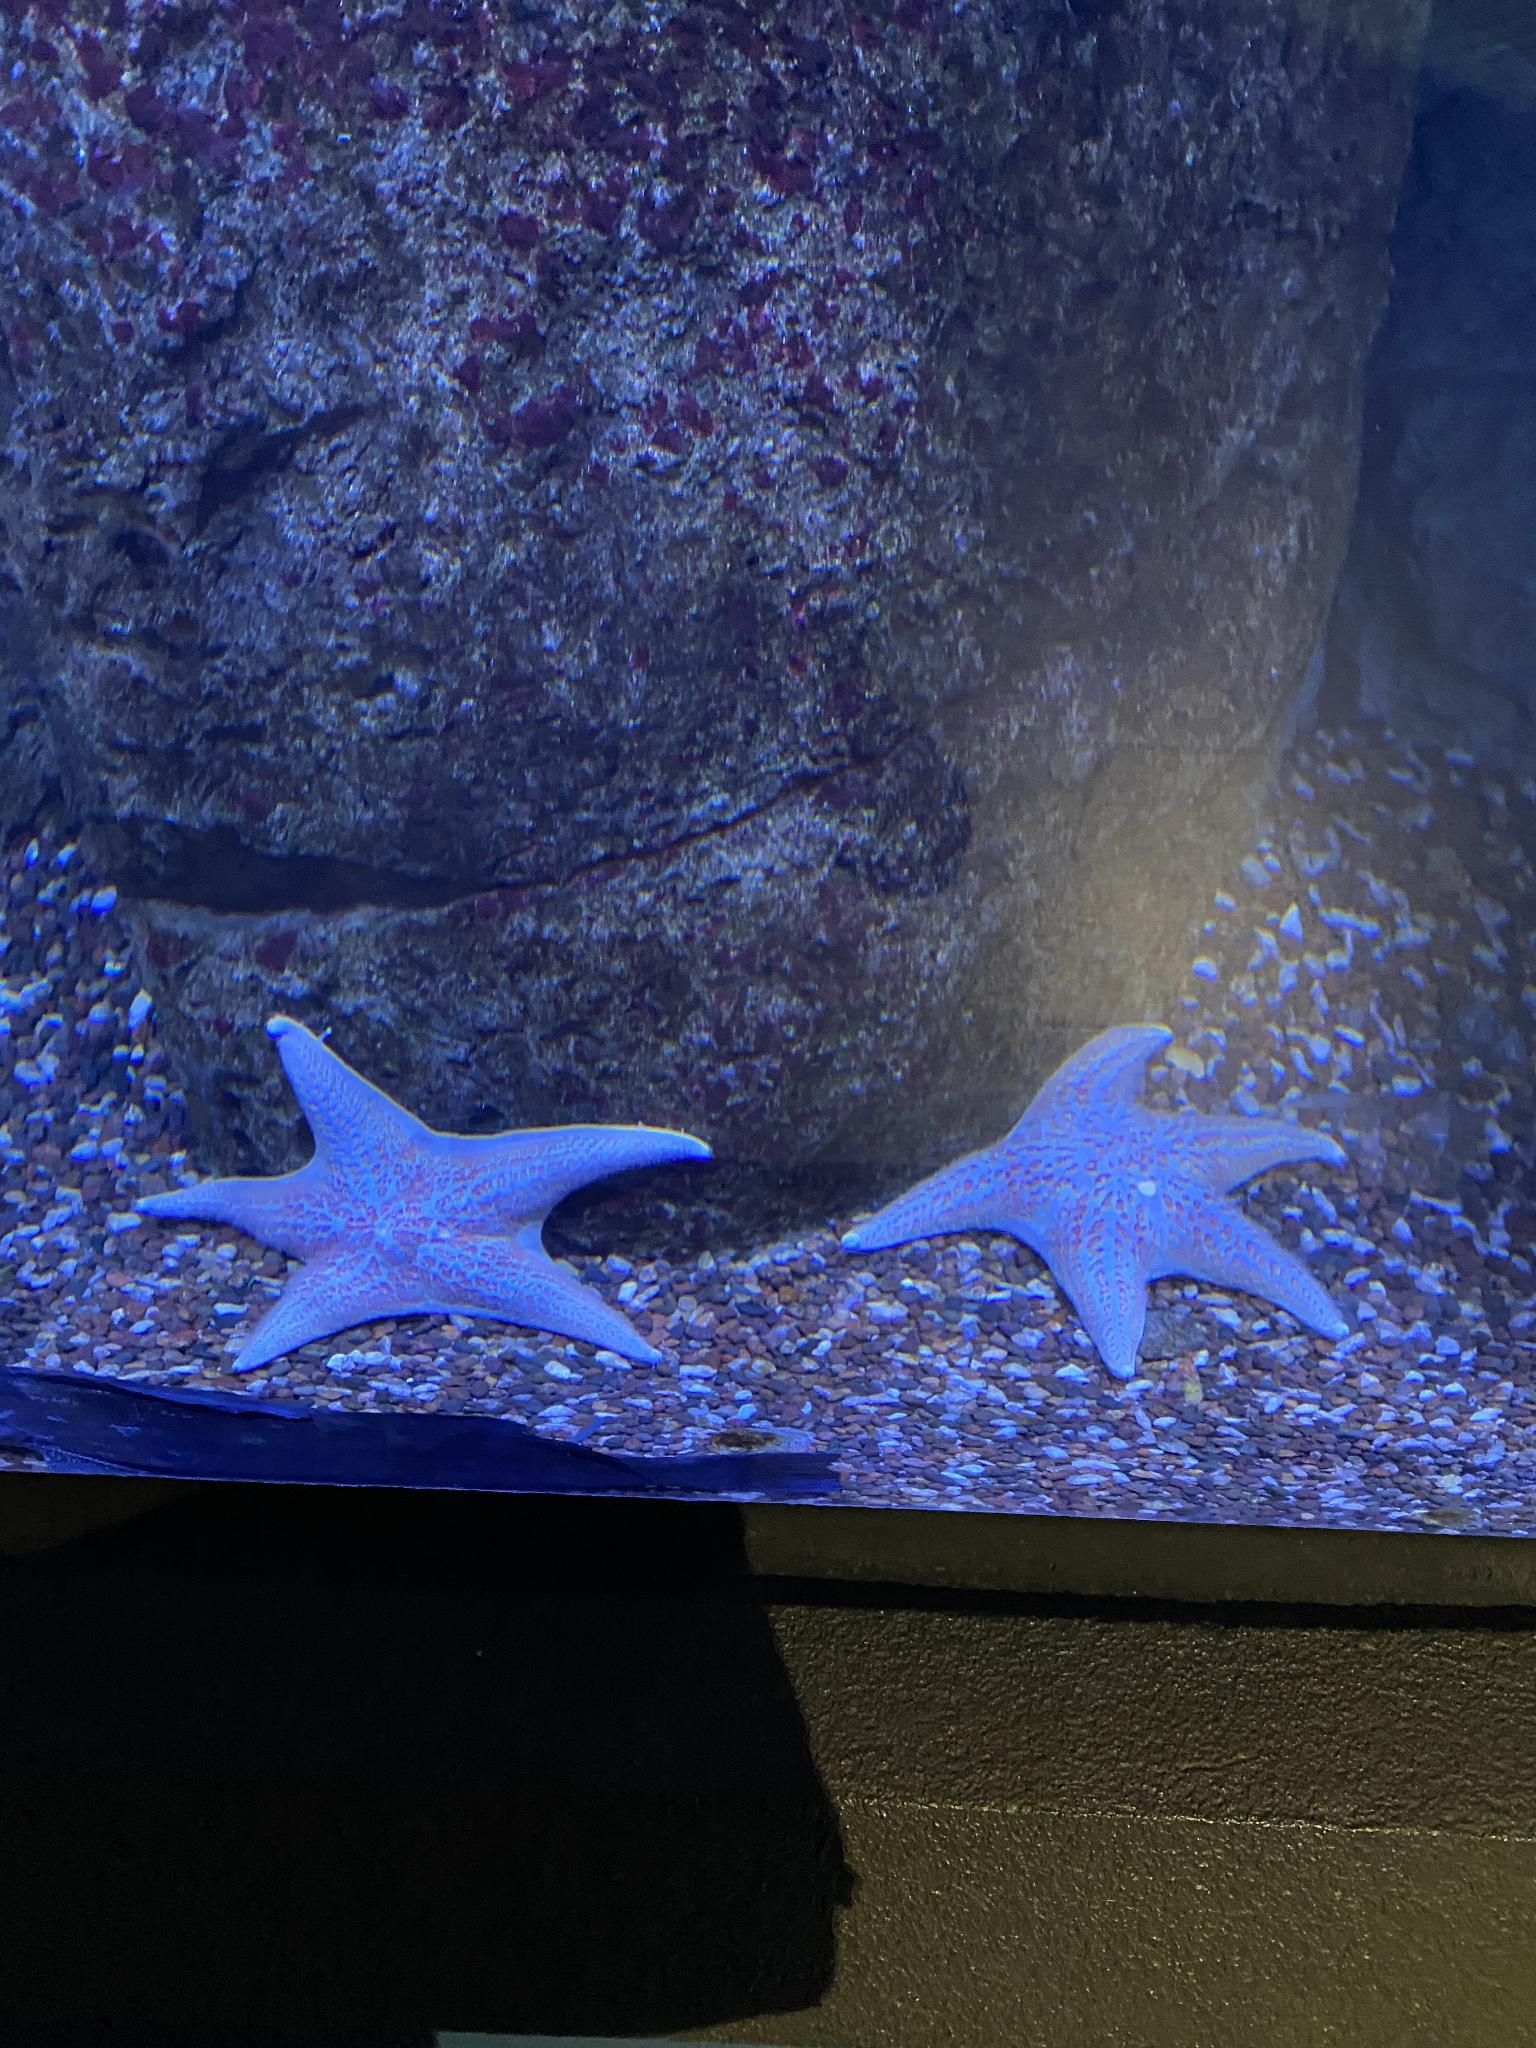starfish: (123, 1014, 728, 1377), (837, 1005, 1355, 1380)
